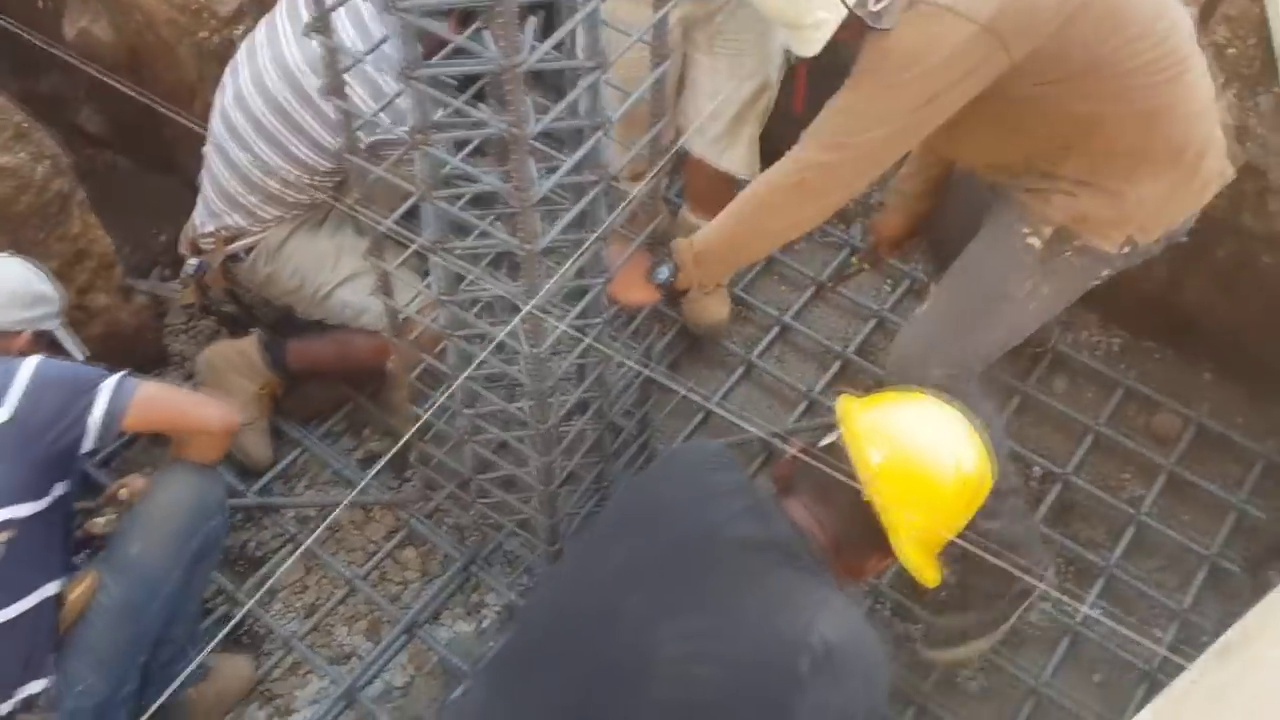helmet: (835, 390, 996, 587)
helmet-off: (0, 258, 64, 362)
helmet-on: (769, 392, 996, 588)
person: (632, 2, 1242, 659), (445, 399, 999, 720), (0, 257, 261, 719), (177, 2, 422, 471)
